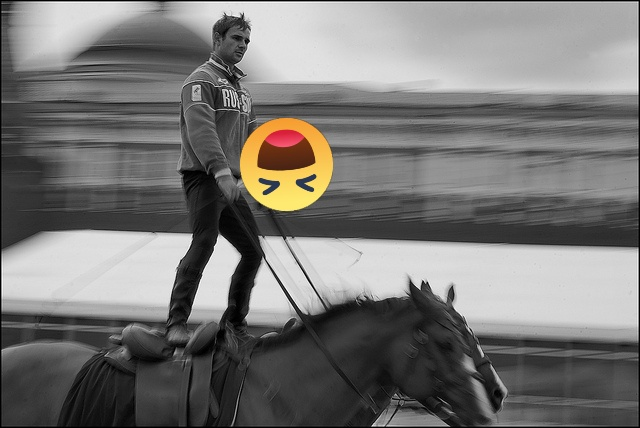haha: (240, 118, 333, 211)
